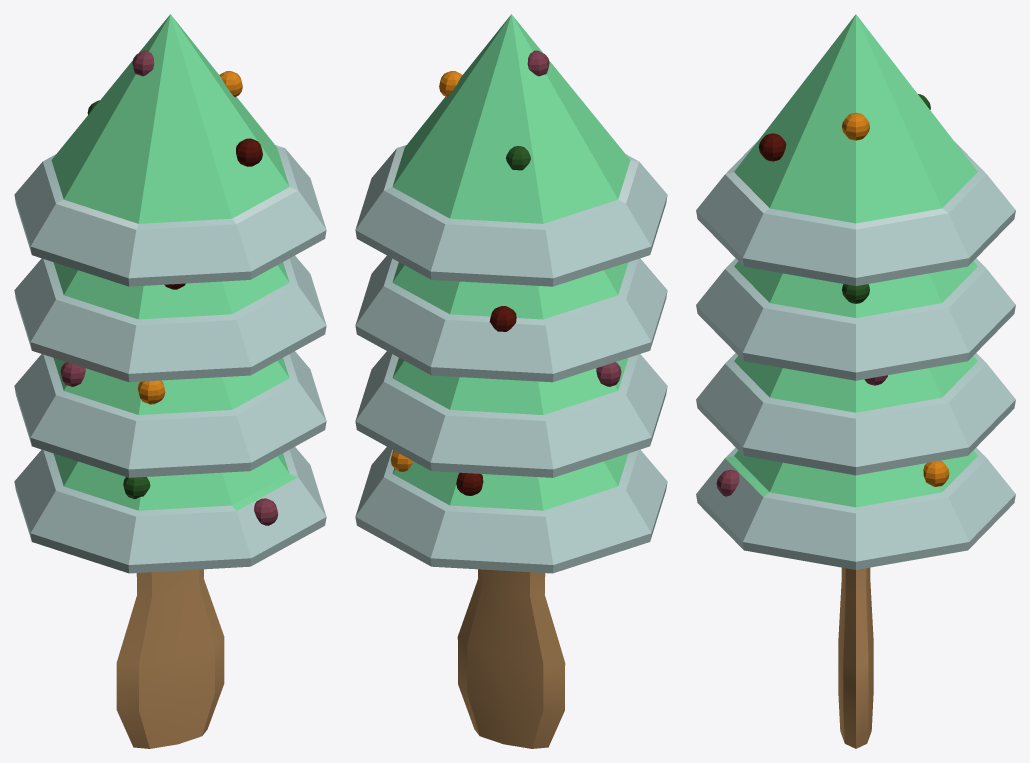
File: SM_FrostlandTree.fbx
3 views of the same model, side by side, from view 1: azimuth 30°, elevation 25°; view 2: azimuth 150°, elevation 25°; view 3: azimuth 270°, elevation 25° (orthographic).
Parts seen in each view (by area): view 1: SM_GumdropTree; view 2: SM_GumdropTree; view 3: SM_GumdropTree.
Part boxes in pixels (x1,y1,x2,y2): SM_GumdropTree: [14, 14, 326, 748]; SM_GumdropTree: [355, 14, 667, 748]; SM_GumdropTree: [696, 14, 1015, 748].
Bounding box in the file's own units: 277 × 684 × 277.
